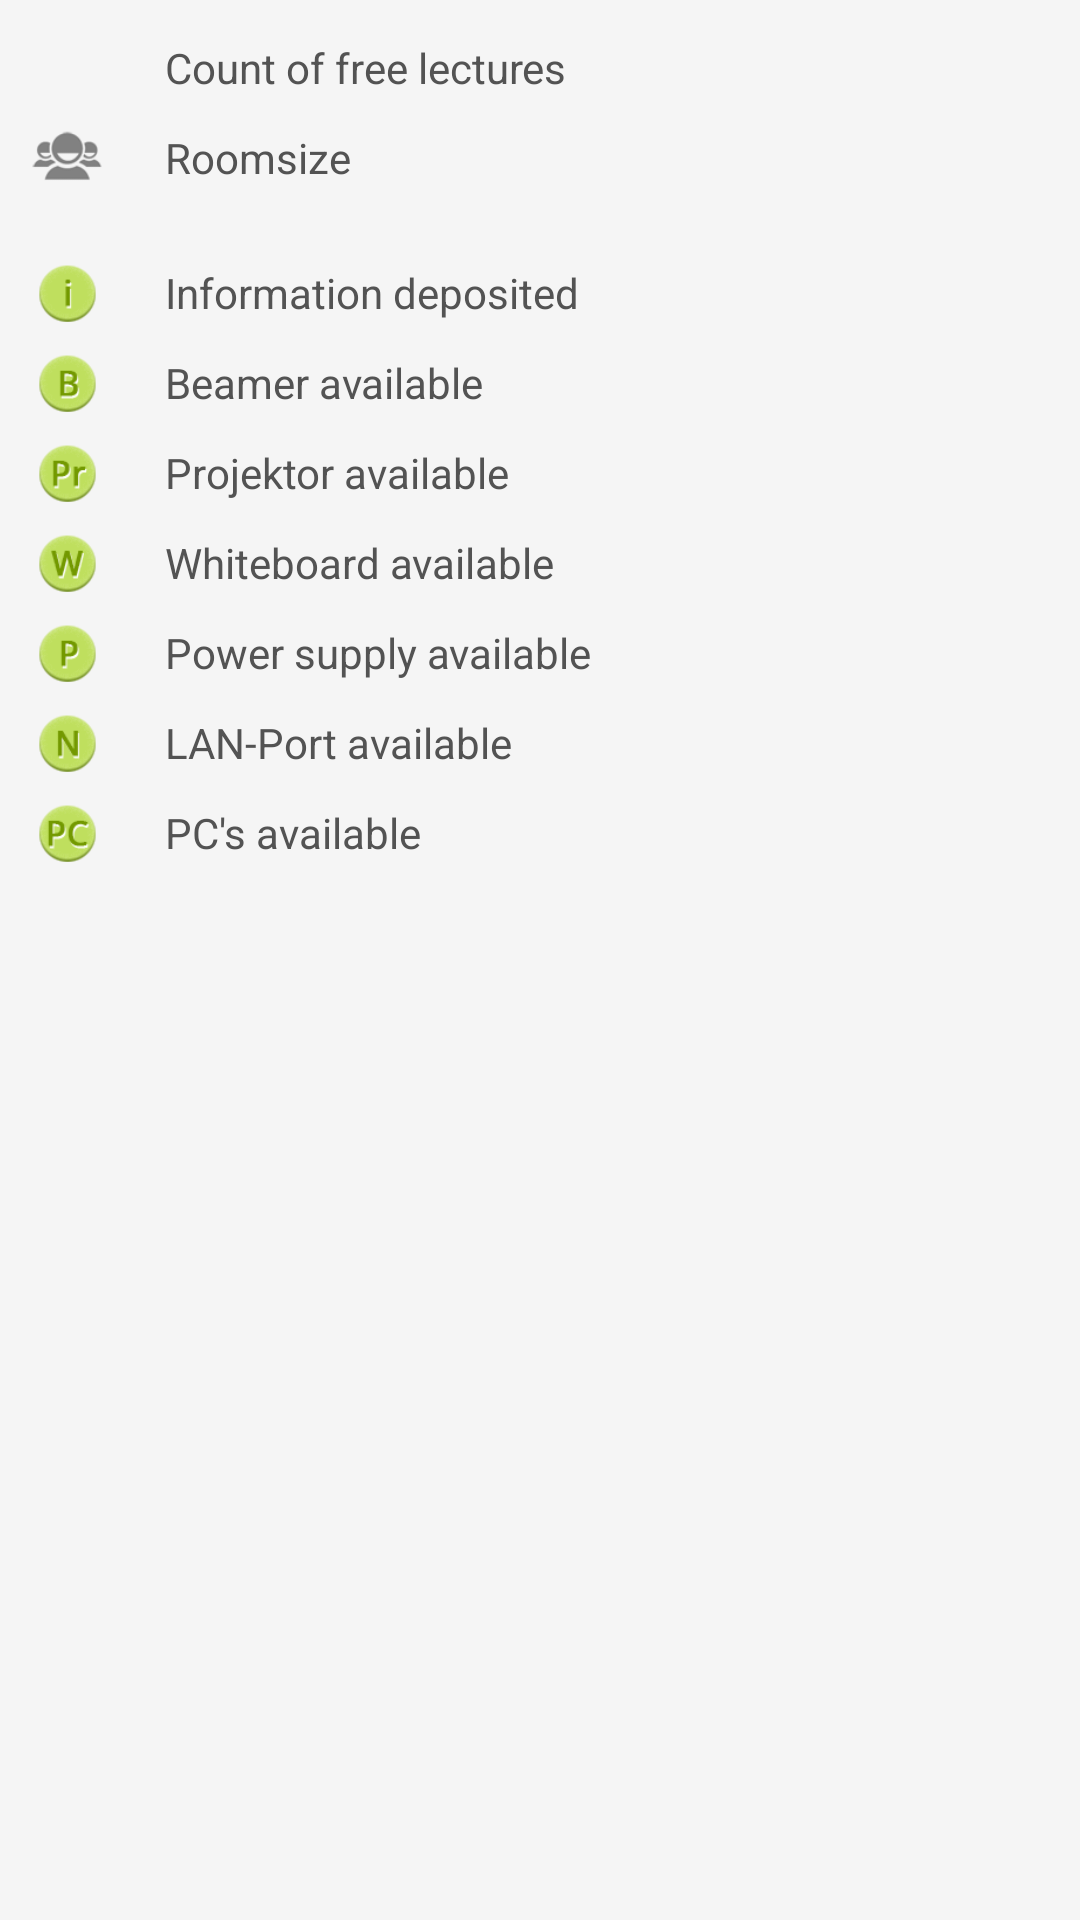

Icon bounding boxes for this 1080 x 1920 phone screenshot, format bbox=[x1, y1, x2, y2]:
filterbeamer: bbox=[39, 355, 96, 412]
filterinfotext: bbox=[39, 265, 96, 322]
filternetwork: bbox=[39, 715, 96, 772]
filterpower: bbox=[39, 625, 96, 682]
filterprojector: bbox=[39, 445, 96, 502]
filterwhiteboard: bbox=[39, 535, 96, 592]
